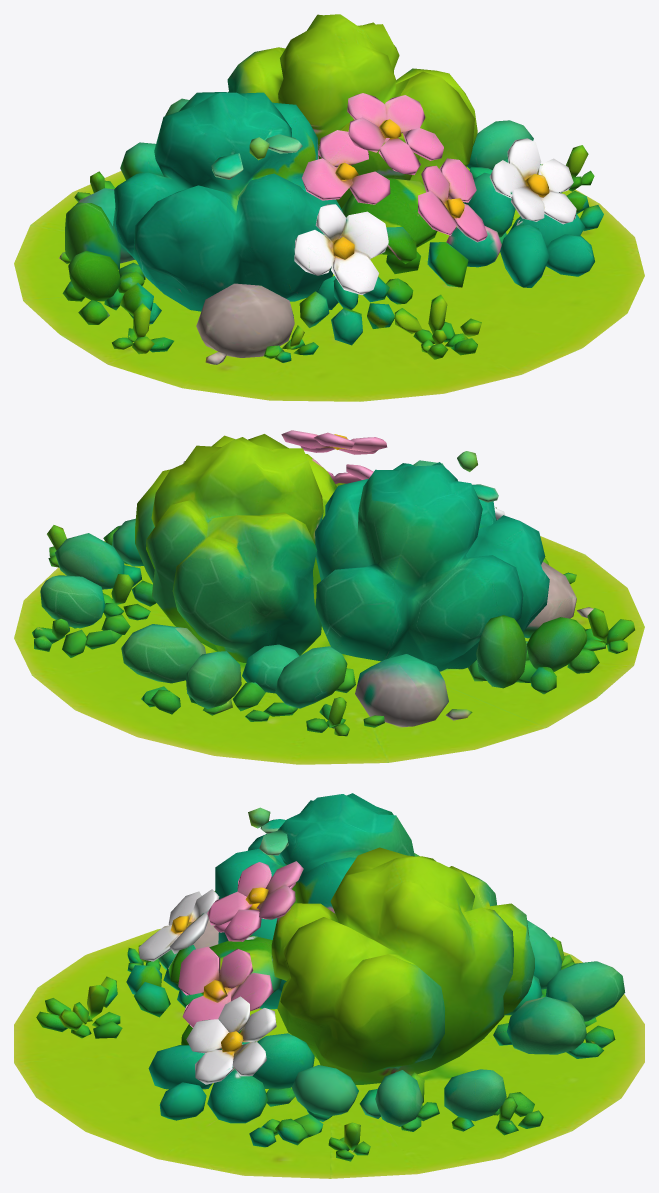
File: r6c5_flower_bush_patch.glb
3 views of the same model, one above another, from view 1: azimuth 30°, elevation 25°; view 2: azimuth 150°, elevation 25°; view 3: azimuth 270°, elevation 25° (orthographic).
Size of the model in its own units: 1 by 0.3965 by 0.998.
Materials: 1 (1 with a texture image).
